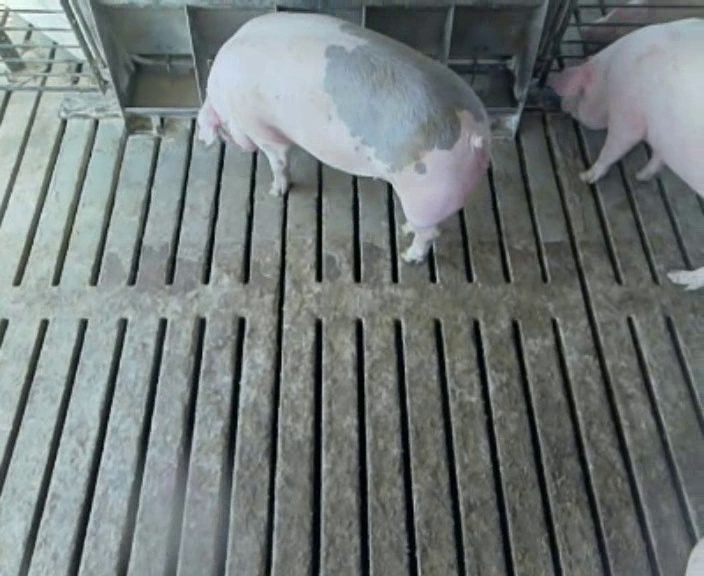pig: (197, 13, 489, 261)
